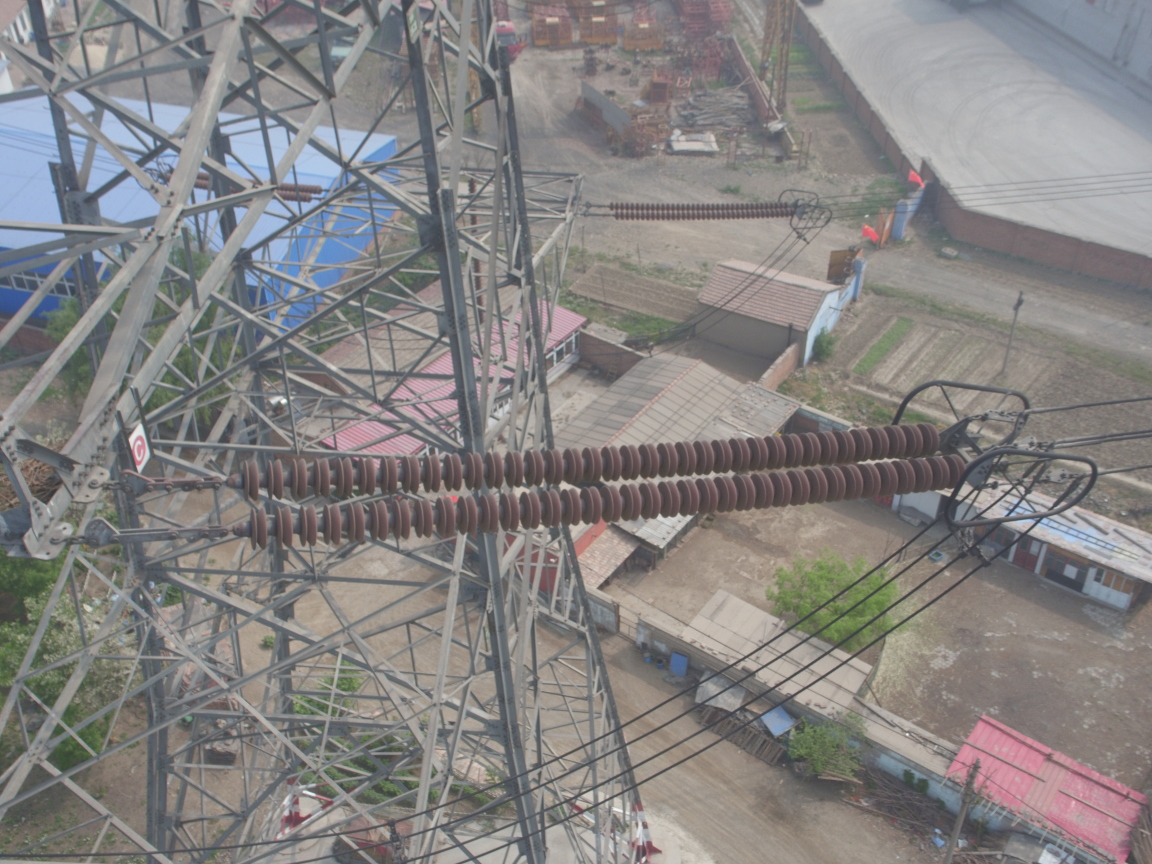insulator: (172, 416, 979, 552), (603, 196, 799, 224)
